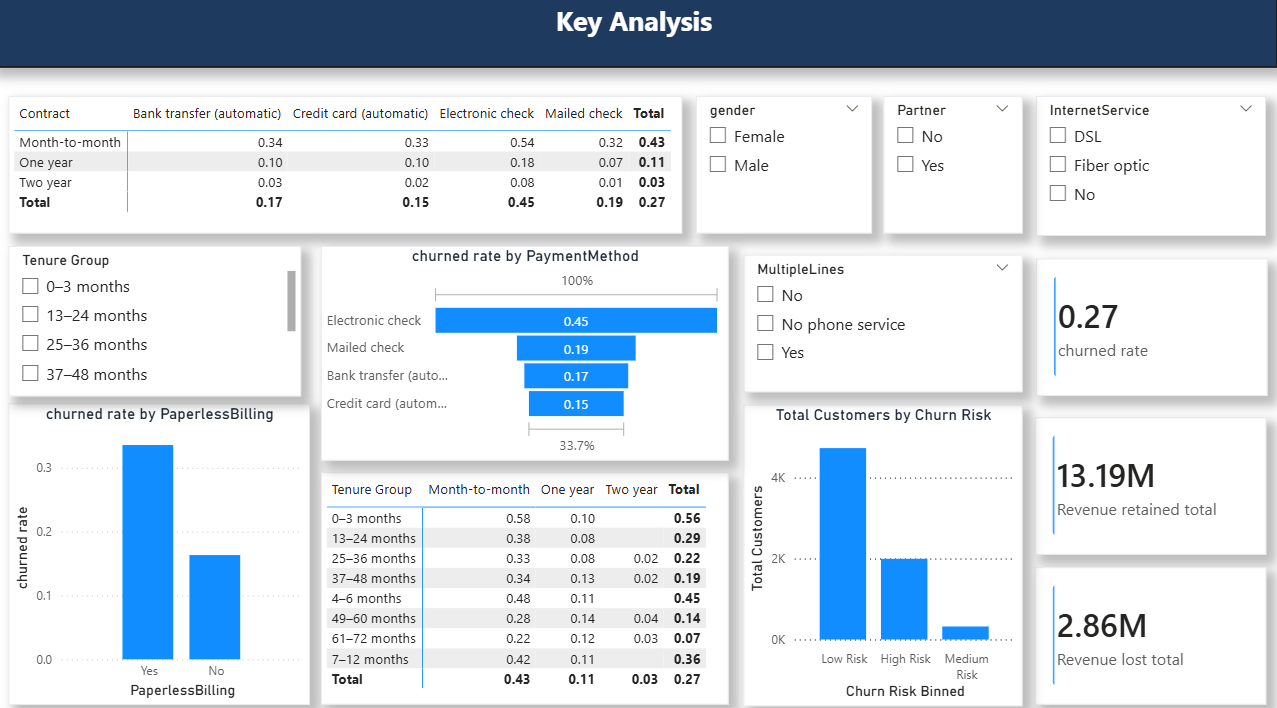

What the dashboard file says about the page in this screenshot:
{"tool":"powerbi","page":{"name":"Key Analysis","canvas":[1280,720],"ordinal":4},"visuals":[{"type":"cardVisual","fields":{"Data":["Telco-Customer-Churn.Revenue retained total"]},"box":[1038.7,419.2,230.1,136.8],"z":0},{"type":"cardVisual","fields":{"Data":["Telco-Customer-Churn.Revenue lost total"]},"box":[1038.7,568.5,230.1,136.8],"z":1000},{"type":"pivotTable","fields":{"Rows":["Telco-Customer-Churn.Contract"],"Values":["Telco-Customer-Churn.churned rate"],"Columns":["Telco-Customer-Churn.PaymentMethod"]},"box":[17.4,99.5,670.5,136.8],"z":2000},{"type":"clusteredColumnChart","fields":{"Category":["Telco-Customer-Churn.PaperlessBilling"],"Y":["Telco-Customer-Churn.churned rate"]},"box":[17.4,405.5,299.8,299.8],"z":3000},{"type":"cardVisual","fields":{"Data":["Telco-Customer-Churn.churned rate"]},"box":[1040,261.2,230.1,136.8],"z":4000},{"type":"textbox","box":[0,0,1280,70.9],"z":5000},{"type":"slicer","fields":{"Values":["Telco-Customer-Churn.InternetService"]},"box":[1040,99.5,228.9,139.3],"z":6000},{"type":"slicer","fields":{"Values":["Telco-Customer-Churn.gender"]},"box":[701.6,99.5,175.4,136.8],"z":7000},{"type":"slicer","fields":{"Values":["Telco-Customer-Churn.Tenure Group"]},"box":[17.4,248.8,291.1,149.3],"z":8000},{"type":"slicer","fields":{"Values":["Telco-Customer-Churn.Partner"]},"box":[888.2,99.5,138.1,136.8],"z":9000},{"type":"pivotTable","fields":{"Rows":["Telco-Customer-Churn.Tenure Group"],"Columns":["Telco-Customer-Churn.Contract"],"Values":["Telco-Customer-Churn.churned rate"]},"box":[328.4,473.9,405.5,231.4],"z":10000},{"type":"clusteredColumnChart","fields":{"Category":["Telco-Customer-Churn.Churn Risk"],"Y":["Telco-Customer-Churn.Total Customers"]},"box":[748.9,406.8,277.4,299.8],"z":11000},{"type":"slicer","fields":{"Values":["Telco-Customer-Churn.MultipleLines"]},"box":[748.9,257.5,277.4,136.8],"z":12000},{"type":"funnel","fields":{"Category":["Telco-Customer-Churn.PaymentMethod"],"Y":["Telco-Customer-Churn.churned rate"]},"box":[328.4,248.8,405.5,214],"z":13000}]}

Visuals, with their boxes in screenshot pixels (x1, y1, x2, y2), scaled from the page's 1280x720 canvas onto the 1277x708 screenshot:
cardVisual - Telco-Customer-Churn.Revenue retained total: left=1036, top=412, right=1266, bottom=547
cardVisual - Telco-Customer-Churn.Revenue lost total: left=1036, top=559, right=1266, bottom=694
pivotTable - Telco-Customer-Churn.Contract x Telco-Customer-Churn.churned rate: left=17, top=98, right=686, bottom=232
clusteredColumnChart - Telco-Customer-Churn.PaperlessBilling x Telco-Customer-Churn.churned rate: left=17, top=399, right=316, bottom=694
cardVisual - Telco-Customer-Churn.churned rate: left=1038, top=257, right=1267, bottom=391
textbox: left=0, top=0, right=1276, bottom=70
slicer - Telco-Customer-Churn.InternetService: left=1038, top=98, right=1266, bottom=235
slicer - Telco-Customer-Churn.gender: left=700, top=98, right=875, bottom=232
slicer - Telco-Customer-Churn.Tenure Group: left=17, top=245, right=308, bottom=391
slicer - Telco-Customer-Churn.Partner: left=886, top=98, right=1024, bottom=232
pivotTable - Telco-Customer-Churn.Tenure Group x Telco-Customer-Churn.Contract: left=328, top=466, right=732, bottom=694
clusteredColumnChart - Telco-Customer-Churn.Churn Risk x Telco-Customer-Churn.Total Customers: left=747, top=400, right=1024, bottom=695
slicer - Telco-Customer-Churn.MultipleLines: left=747, top=253, right=1024, bottom=388
funnel - Telco-Customer-Churn.PaymentMethod x Telco-Customer-Churn.churned rate: left=328, top=245, right=732, bottom=455
